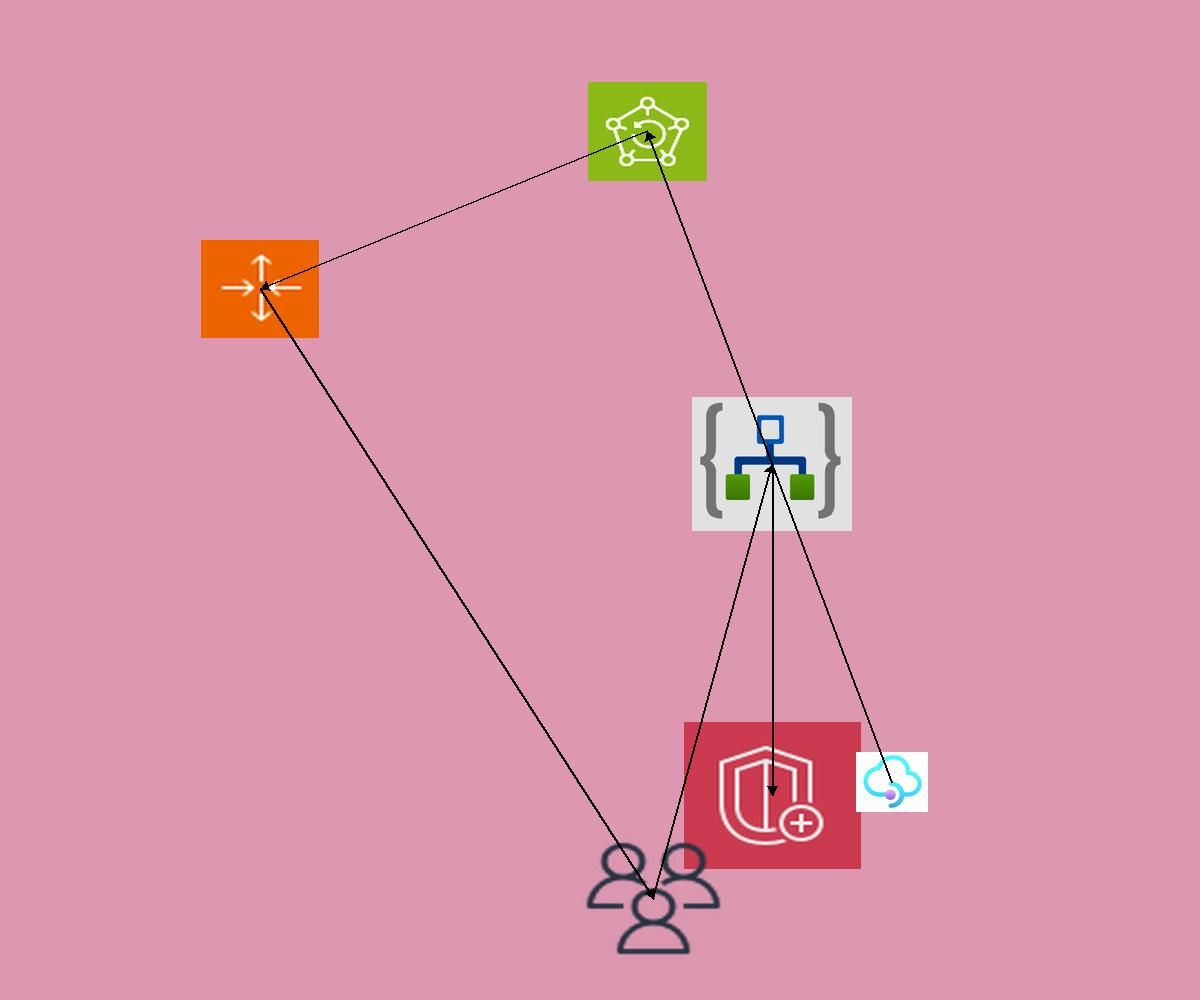AWS-Backup: (588, 82, 707, 181)
AWS-Res_Users: (581, 838, 726, 959)
AWS-Scaling-group: (201, 240, 319, 338)
AWS-Shield: (684, 722, 861, 869)
Azure_api_gateway: (856, 752, 928, 812)
Azure_integration-204-Logic-Apps: (692, 397, 852, 531)
